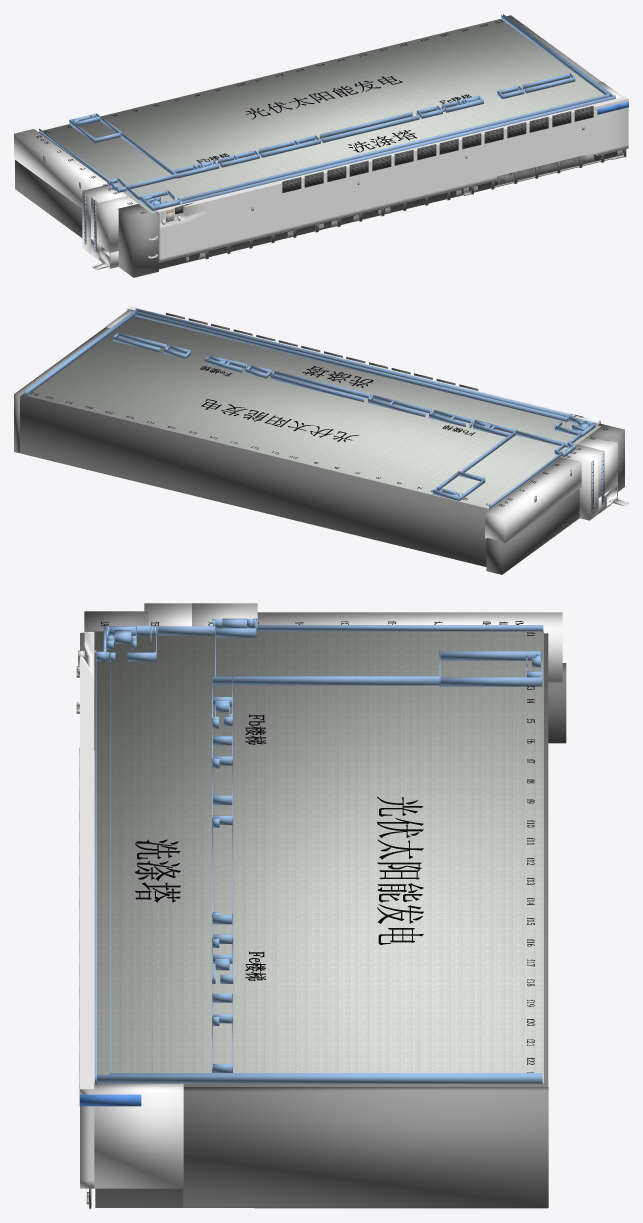
Rendered from 6f_mini.gltf.
3 renders of one model, top to bottom at view 1: azimuth 30°, elevation 25°; view 2: azimuth 150°, elevation 25°; view 3: azimuth 270°, elevation 25°, orthographic. The views are drawn at different scales.
Parts seen in each view (by area): view 1: fab_n1_dimian_rf, fab_n1_waiguan_r_65, fab_n1_waiguan_r_64, fab_n1_waiguan_r_54, fab_n1_waiguan_r_59, fab_n1_waiguan_r_57, fab_n1_qiang_rf_21, fab_n1_qiang_rf_30, fab_n1_waiguan_r_31, fab_n1_waiguan_r_80, guangfu, fab_n1_qiang_rf_29 (+4 smaller); view 2: fab_n1_dimian_rf, fab_n1_waiguan_r_59, fab_n1_waiguan_r_64, fab_n1_waiguan_r_57, fab_n1_qiang_rf_30, fab_n1_qiang_rf_21, fab_n1_waiguan_r_80, fab_n1_waiguan_r_31, fab_n1_waiguan_r_58, fab_n1_waiguan_r_65, fab_n1_waiguan_r_54, guangfu (+3 smaller); view 3: fab_n1_dimian_rf, fab_n1_waiguan_r_58, fab_n1_waiguan_r_55, fab_n1_waiguan_r_65, fab_n1_waiguan_r_59, fab_n1_waiguan_r_64, fab_n1_qiang_rf_28, guangfu, fab_n1_qiang_rf_50, fab_n1_qiang_rf_1, fab_n1_waiguan_r_57, fab_n1_waiguan_r_80 (+9 smaller).
Part boxes in pixels (x1,y1,x2,y2): fab_n1_dimian_rf: [43, 19, 604, 213]; fab_n1_waiguan_r_65: [156, 96, 628, 262]; fab_n1_waiguan_r_64: [14, 129, 107, 208]; fab_n1_waiguan_r_54: [118, 204, 158, 277]; fab_n1_waiguan_r_59: [39, 132, 623, 269]; fab_n1_waiguan_r_57: [15, 160, 82, 237]; fab_n1_qiang_rf_21: [182, 95, 615, 203]; fab_n1_qiang_rf_30: [179, 94, 609, 200]; fab_n1_waiguan_r_31: [91, 196, 137, 252]; fab_n1_waiguan_r_80: [82, 184, 126, 254]; guangfu: [245, 76, 402, 119]; fab_n1_qiang_rf_29: [501, 15, 608, 94]; fab_n1_dimian_rf: [25, 316, 600, 508]; fab_n1_waiguan_r_59: [14, 393, 560, 566]; fab_n1_waiguan_r_64: [485, 457, 581, 542]; fab_n1_waiguan_r_57: [486, 489, 579, 574]; fab_n1_qiang_rf_30: [135, 312, 565, 420]; fab_n1_qiang_rf_21: [136, 308, 570, 416]; fab_n1_waiguan_r_80: [560, 444, 605, 520]; fab_n1_waiguan_r_31: [577, 436, 617, 497]; fab_n1_waiguan_r_58: [14, 327, 109, 452]; fab_n1_waiguan_r_65: [127, 306, 600, 425]; fab_n1_waiguan_r_54: [588, 423, 624, 491]; guangfu: [201, 399, 358, 442]; fab_n1_dimian_rf: [94, 631, 543, 1083]; fab_n1_waiguan_r_58: [183, 1087, 548, 1207]; fab_n1_waiguan_r_55: [94, 1082, 183, 1188]; fab_n1_waiguan_r_65: [80, 632, 94, 1188]; fab_n1_waiguan_r_59: [95, 633, 548, 1208]; fab_n1_waiguan_r_64: [257, 612, 562, 682]; fab_n1_qiang_rf_28: [96, 1074, 542, 1083]; guangfu: [377, 797, 423, 944]; fab_n1_qiang_rf_50: [212, 676, 439, 685]; fab_n1_qiang_rf_1: [257, 625, 543, 631]; fab_n1_waiguan_r_57: [548, 663, 566, 743]; fab_n1_waiguan_r_80: [192, 603, 257, 626].
Bounding box in the file's own units: 349 × 40.32 × 144.
Materials: 42 (30 with a texture image).
